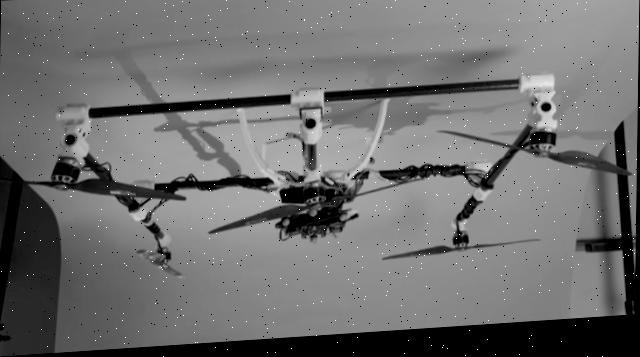drone: (0, 61, 639, 315)
